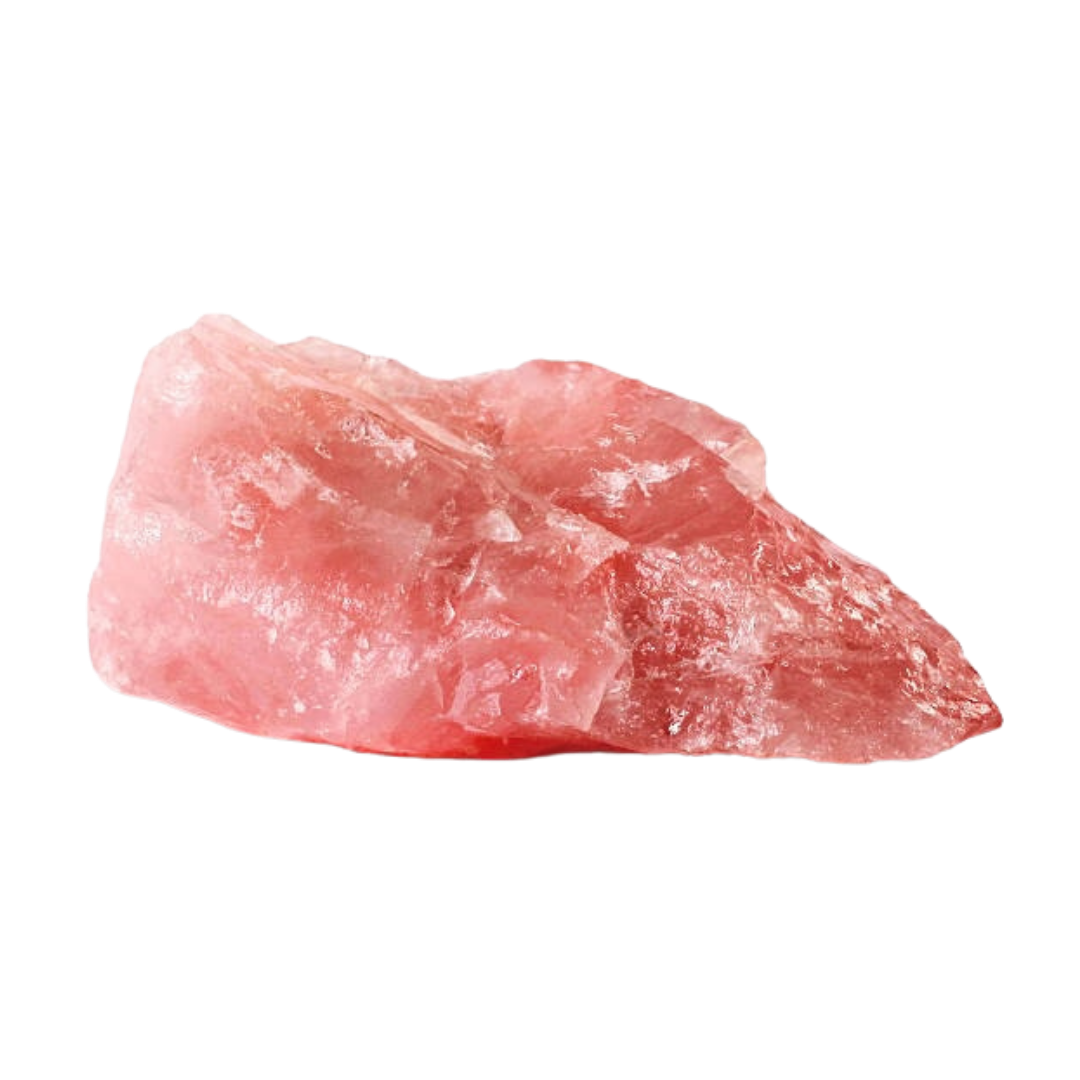Rose_Quartz: (85, 305, 1007, 765)
